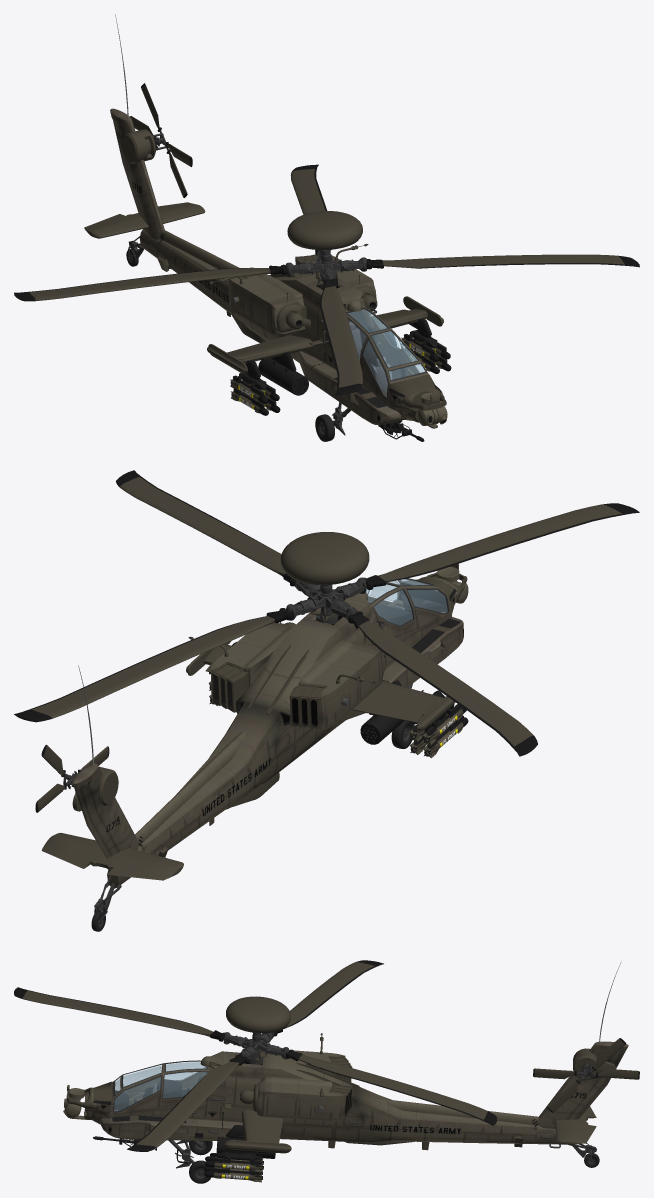
The model's file is Apache.FBX.
3 views of the same model, one above another, from view 1: azimuth 30°, elevation 25°; view 2: azimuth 150°, elevation 25°; view 3: azimuth 270°, elevation 25° (orthographic). The views are drawn at different scales.
Parts seen in each view (by area): view 1: Body, FrontRotor, RearTail, TailRotor, RightFrontDoor; view 2: Body, FrontRotor, RearTail, RightRearDoor1, RightFrontDoor, TailRotor; view 3: Body, FrontRotor, TailRotor, LeftFrontDoor, LeftRearDoor, RearTail, RightRearDoor1, RightFrontDoor, Missile8, Missile6, LeftWheel, LeftGear.
Part boxes in pixels (x1,y1,x2,y2): Body: (110,108,447,428); FrontRotor: (14,164,639,395); RearTail: (84,202,205,238); TailRotor: (130,83,192,197); RightFrontDoor: (360,336,389,400); Body: (72,572,467,888); FrontRotor: (14,470,639,756); RearTail: (41,833,183,880); RightRearDoor1: (372,587,416,639); RightFrontDoor: (404,587,450,630); TailRotor: (35,744,109,812); Body: (66,1033,628,1175); FrontRotor: (14,960,496,1151); TailRotor: (533,1038,639,1112); LeftFrontDoor: (112,1073,163,1113); LeftRearDoor: (160,1070,209,1108); RearTail: (555,1106,596,1144); RightRearDoor1: (164,1062,207,1088); RightFrontDoor: (115,1066,161,1093); Missile8: (204,1171,262,1182); Missile6: (205,1161,263,1172); LeftWheel: (189,1160,211,1183); LeftGear: (168,1140,194,1168).
Bounding box in the file's own units: 15.58 × 7.37 × 20.14.
